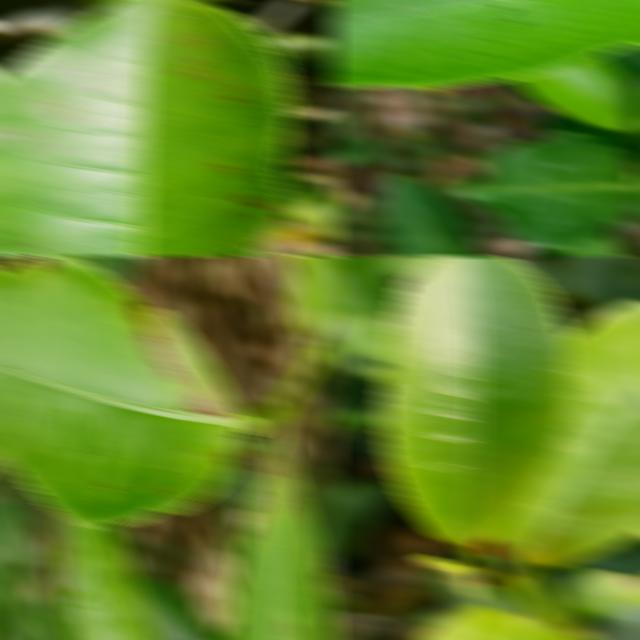Leaf: (0, 0, 296, 256), (0, 256, 250, 528), (377, 256, 575, 559), (491, 301, 640, 565), (326, 0, 640, 88), (228, 430, 338, 640), (455, 130, 640, 247), (58, 520, 160, 640), (0, 497, 78, 640), (512, 56, 637, 133), (376, 173, 483, 256), (128, 575, 222, 640), (217, 440, 263, 567), (326, 479, 393, 561), (326, 256, 399, 328), (288, 256, 338, 352), (546, 540, 640, 585), (558, 569, 640, 618), (279, 175, 338, 239), (554, 231, 625, 256), (613, 602, 640, 626)
